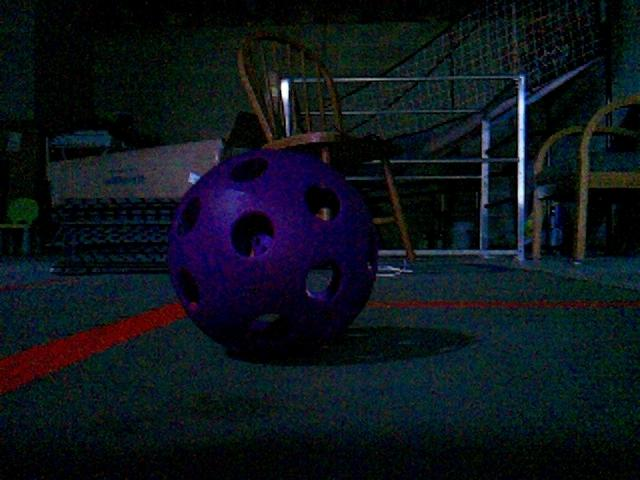Purple: (164, 148, 379, 356)
